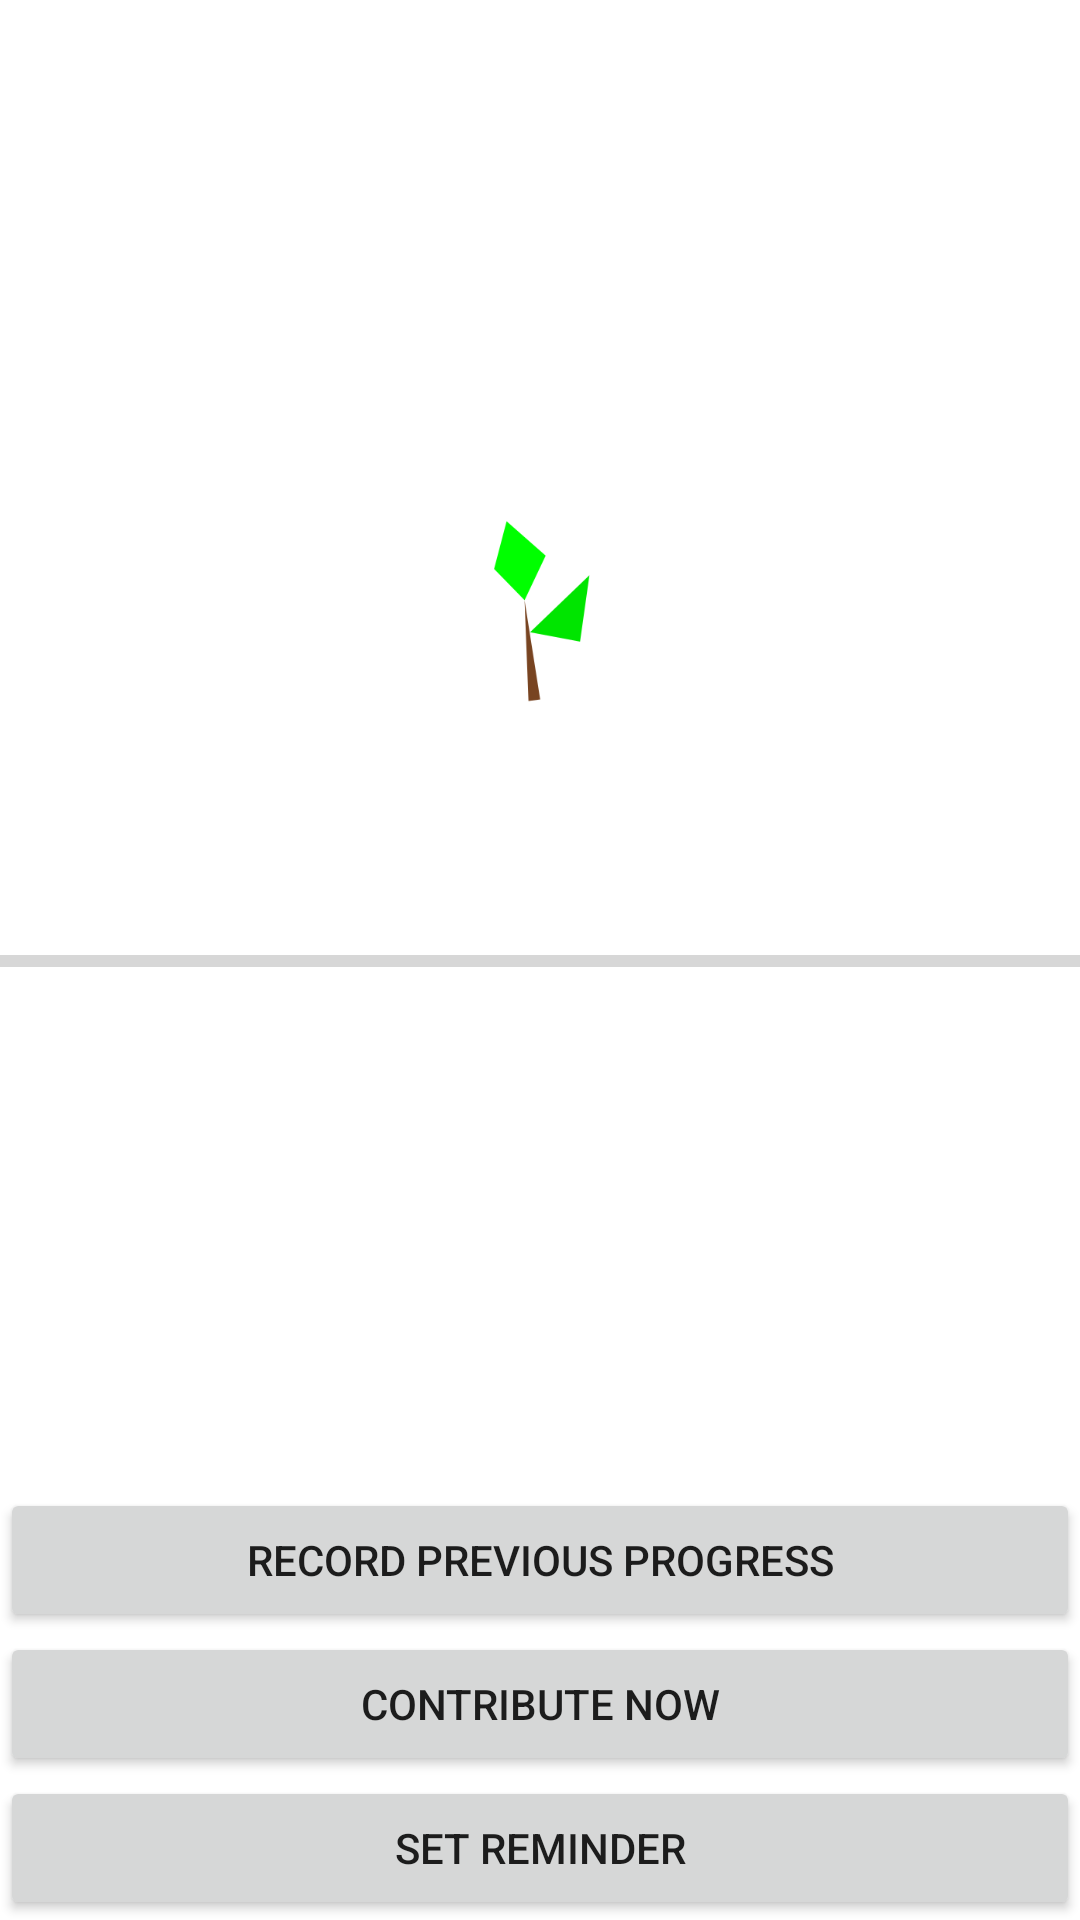

Icons on this 1080px×1920px Android screen, each with the point to tap as point (x, y):
growing phase: point (542, 611)
